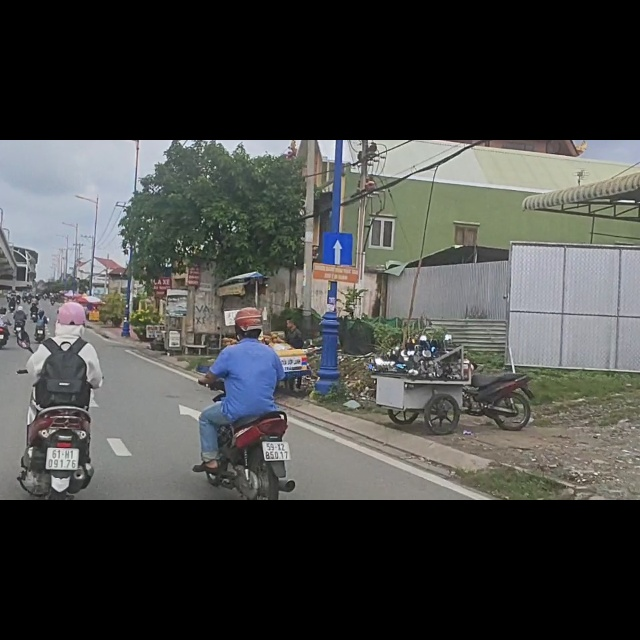bien_chi_dan: (322, 160, 355, 224)
